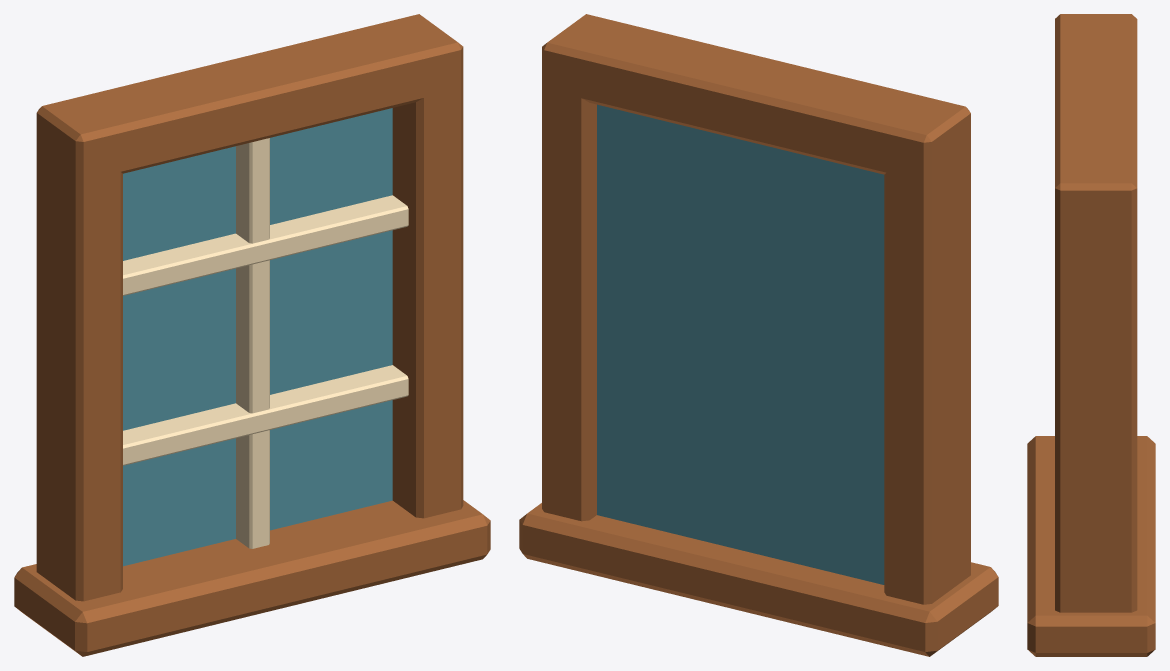
Rendered from window_narrow.glb.
3 views of the same model, side by side, from view 1: azimuth 30°, elevation 25°; view 2: azimuth 150°, elevation 25°; view 3: azimuth 270°, elevation 25° (orthographic). The views are drawn at different scales.
Parts seen in each view (by area): view 1: Vidraça, Batente, Peitoril, Verga, Batente.001, Caixilho vertical, Caixilho horizontal, Caixilho horizontal.001; view 2: Vidraça, Batente, Verga, Peitoril, Batente.001; view 3: Batente.001, Verga, Peitoril.
Boxes of the visible parts, box(x1,y1,x2,y2) form: Vidraça: box(123, 108, 392, 566); Batente: box(36, 109, 122, 601); Peitoril: box(14, 500, 490, 656); Verga: box(37, 14, 460, 180); Batente.001: box(392, 42, 463, 518); Caixilho vertical: box(236, 138, 269, 548); Caixilho horizontal: box(123, 365, 408, 465); Caixilho horizontal.001: box(123, 195, 408, 295); Vidraça: box(597, 104, 884, 584); Batente: box(884, 107, 970, 604); Verga: box(542, 14, 970, 181); Peitoril: box(519, 503, 998, 656); Batente.001: box(542, 47, 596, 521); Batente.001: box(1055, 183, 1137, 612); Verga: box(1055, 14, 1137, 226); Peitoril: box(1027, 436, 1155, 656).
Bounding box in the file's own units: 0.965 × 1.13 × 0.28.
